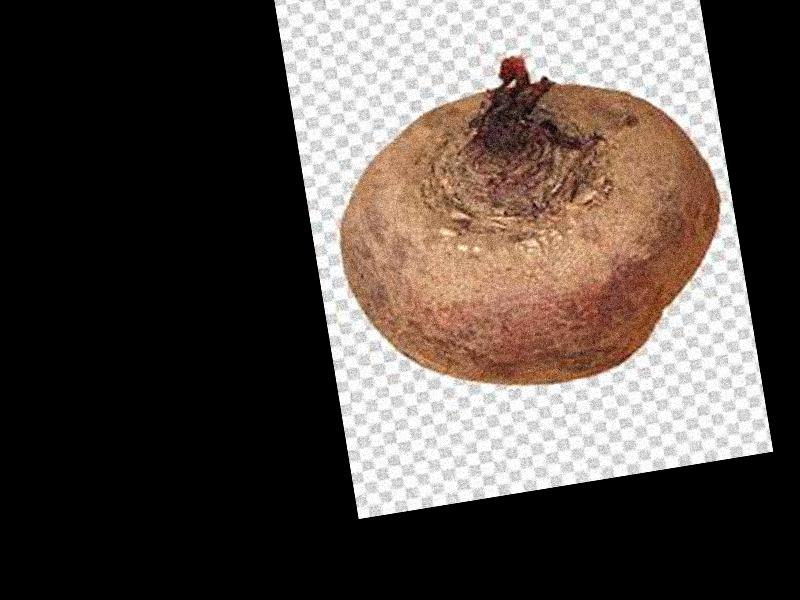Beet: (316, 27, 741, 412)
